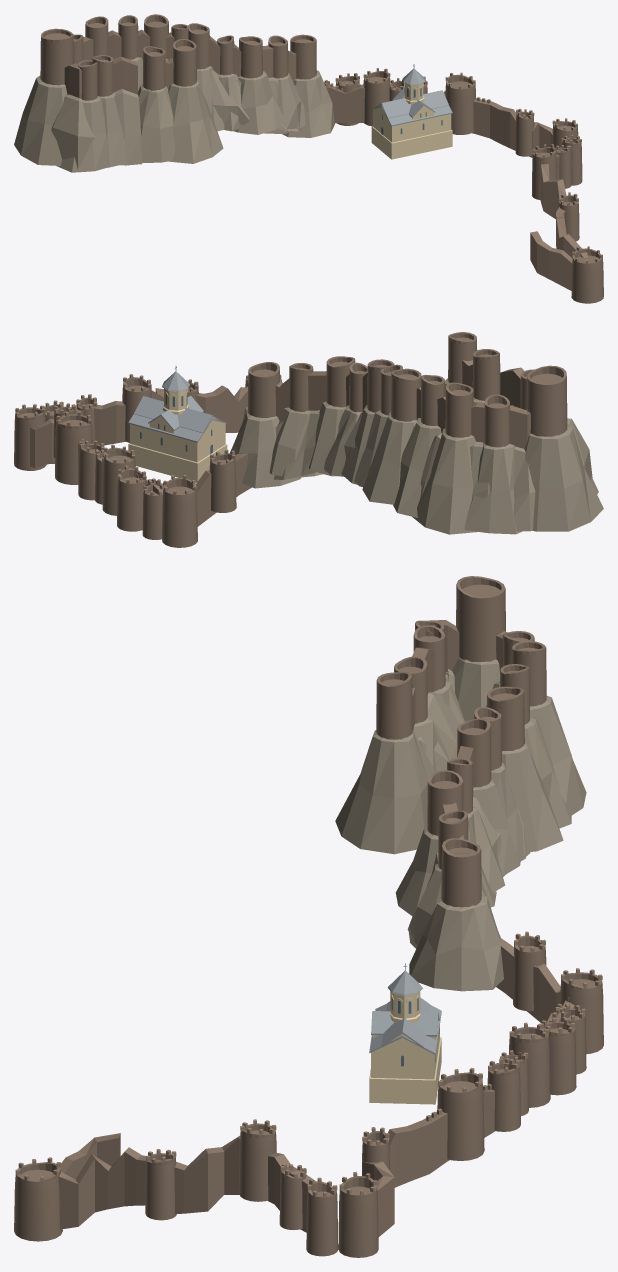
Rendered from tbilisi-narikala.detail.glb.
3 renders of one model, top to bottom at view 1: azimuth 30°, elevation 25°; view 2: azimuth 150°, elevation 25°; view 3: azimuth 270°, elevation 25°, orthographic. The views are drawn at different scales.
Visible parts, largest first — view 1: Narikala Fortress; view 2: Narikala Fortress; view 3: Narikala Fortress.
Boxes of the visible parts, box(x1,y1,x2,y2) form: Narikala Fortress: box(14, 14, 603, 303); Narikala Fortress: box(14, 332, 603, 547); Narikala Fortress: box(14, 576, 603, 1257).
Size of the model in its own units: 180 by 82.93 by 120.
